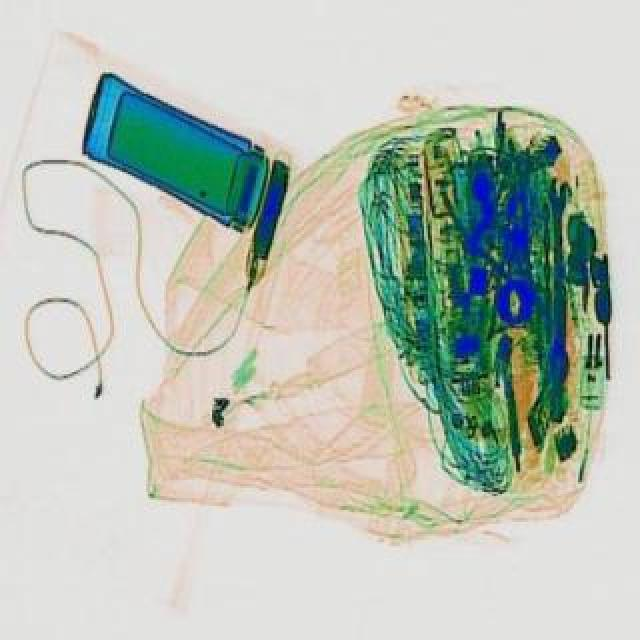scissors: (546, 172, 570, 382)
